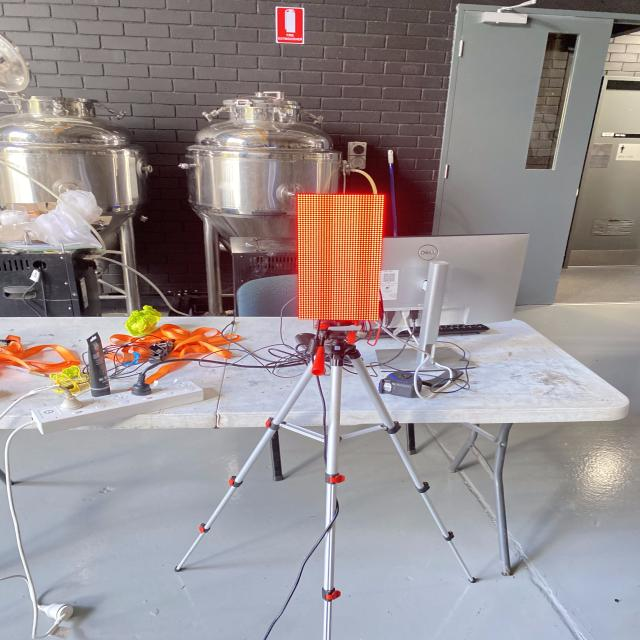matrix: (290, 183, 384, 328)
